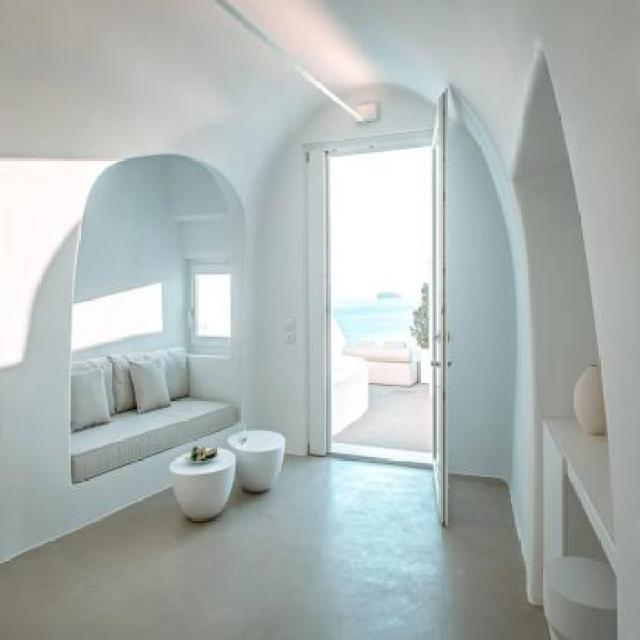Floor: (0, 452, 550, 639), (332, 381, 432, 462)
